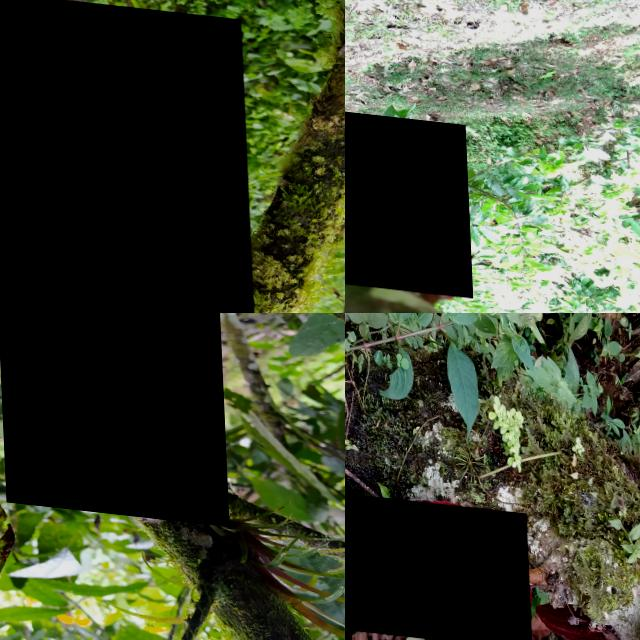Fitoftora: (0, 0, 253, 313), (0, 313, 225, 518), (345, 485, 528, 640), (345, 104, 469, 289)
